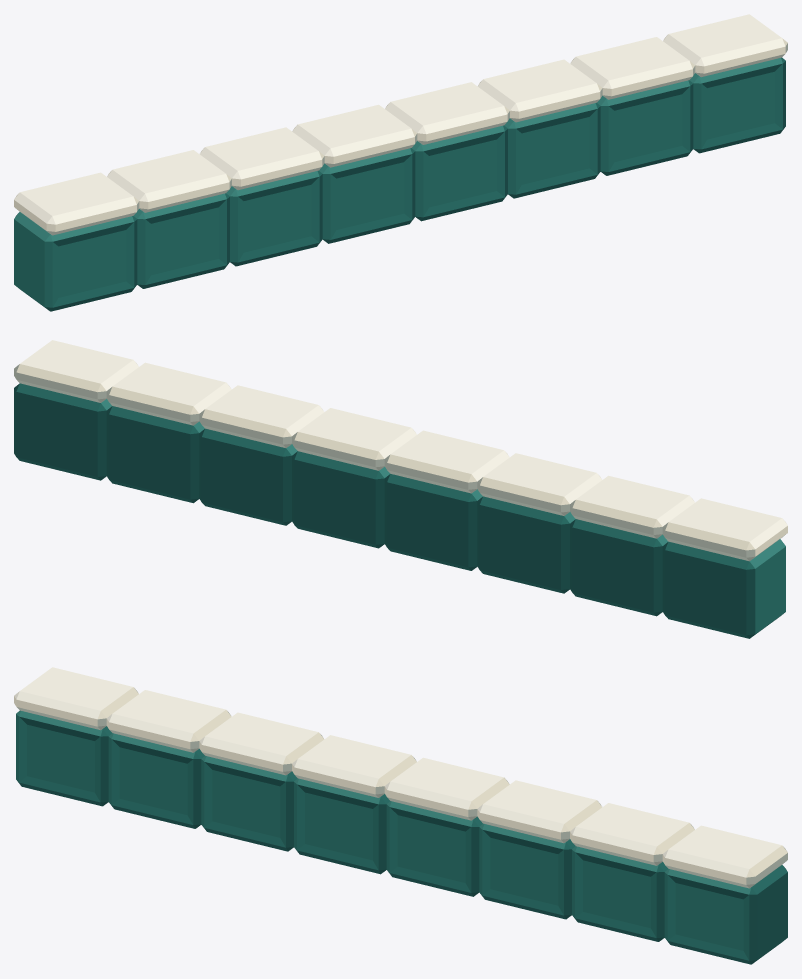
Rendered from Terrain_TopRun8.gltf.
3 renders of one model, top to bottom at view 1: azimuth 30°, elevation 25°; view 2: azimuth 150°, elevation 25°; view 3: azimuth 330°, elevation 25°, orthographic.
Visible parts, largest first — view 1: Terrain_TopRun8_baked; view 2: Terrain_TopRun8_baked; view 3: Terrain_TopRun8_baked.
Part boxes in pixels (x1,y1,x2,y2): Terrain_TopRun8_baked: (14,14,787,311); Terrain_TopRun8_baked: (14,340,787,638); Terrain_TopRun8_baked: (14,667,787,964).
Bounding box in the file's own units: 8 × 1 × 0.735.
